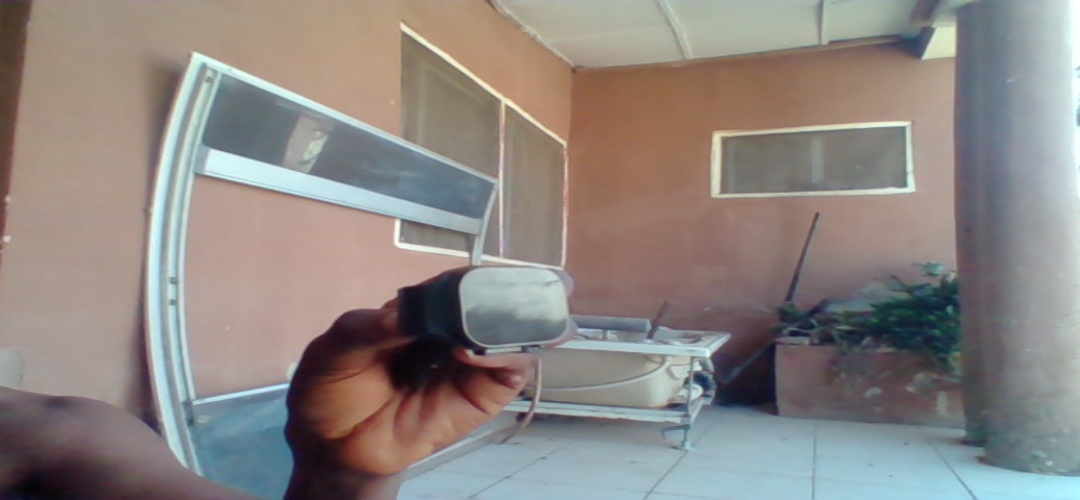smart_watch: (402, 262, 576, 358)
